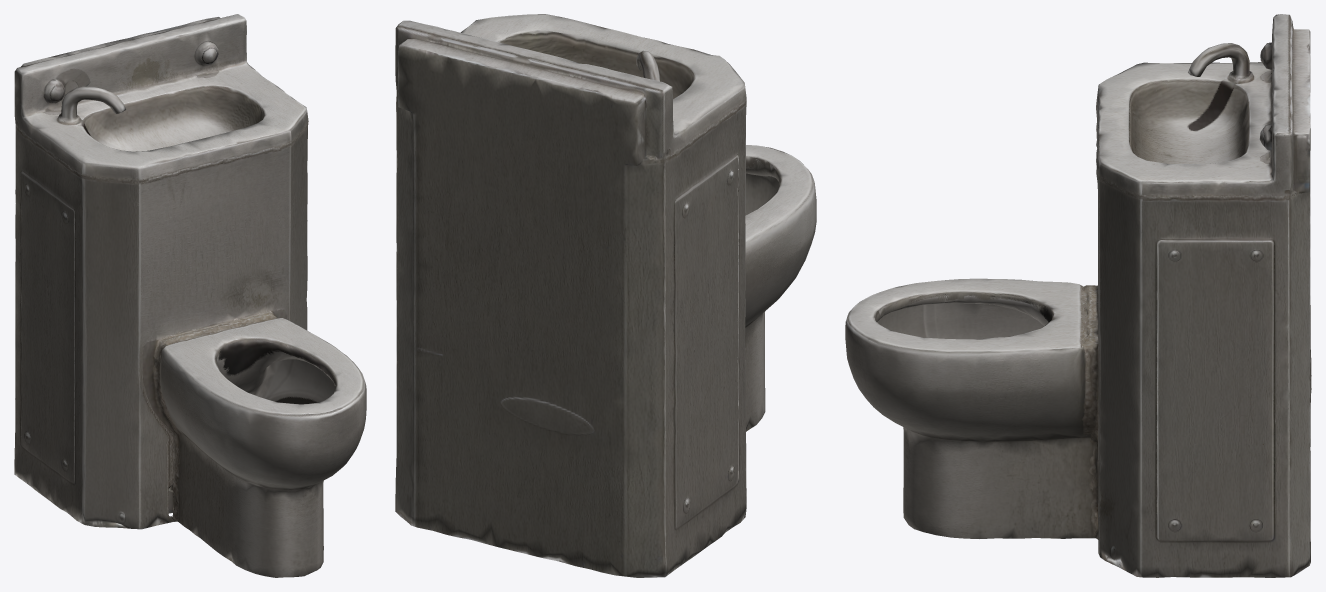
File: S1_SanitaryUnit.glb
The picture shows the model from 3 angles, left to right: view 1: azimuth 30°, elevation 25°; view 2: azimuth 150°, elevation 25°; view 3: azimuth 270°, elevation 25°; orthographic projection. The views are drawn at different scales.
Parts seen in each view (by area): view 1: texture_mapping; view 2: texture_mapping; view 3: texture_mapping.
Boxes of the visible parts, x1,y1,x2,y2 form: texture_mapping: (14, 14, 366, 577); texture_mapping: (395, 14, 816, 577); texture_mapping: (845, 14, 1311, 577).
Size of the model in its own units: 0.5948 by 0.9971 by 0.9437.
Materials: 1 (1 with a texture image).
